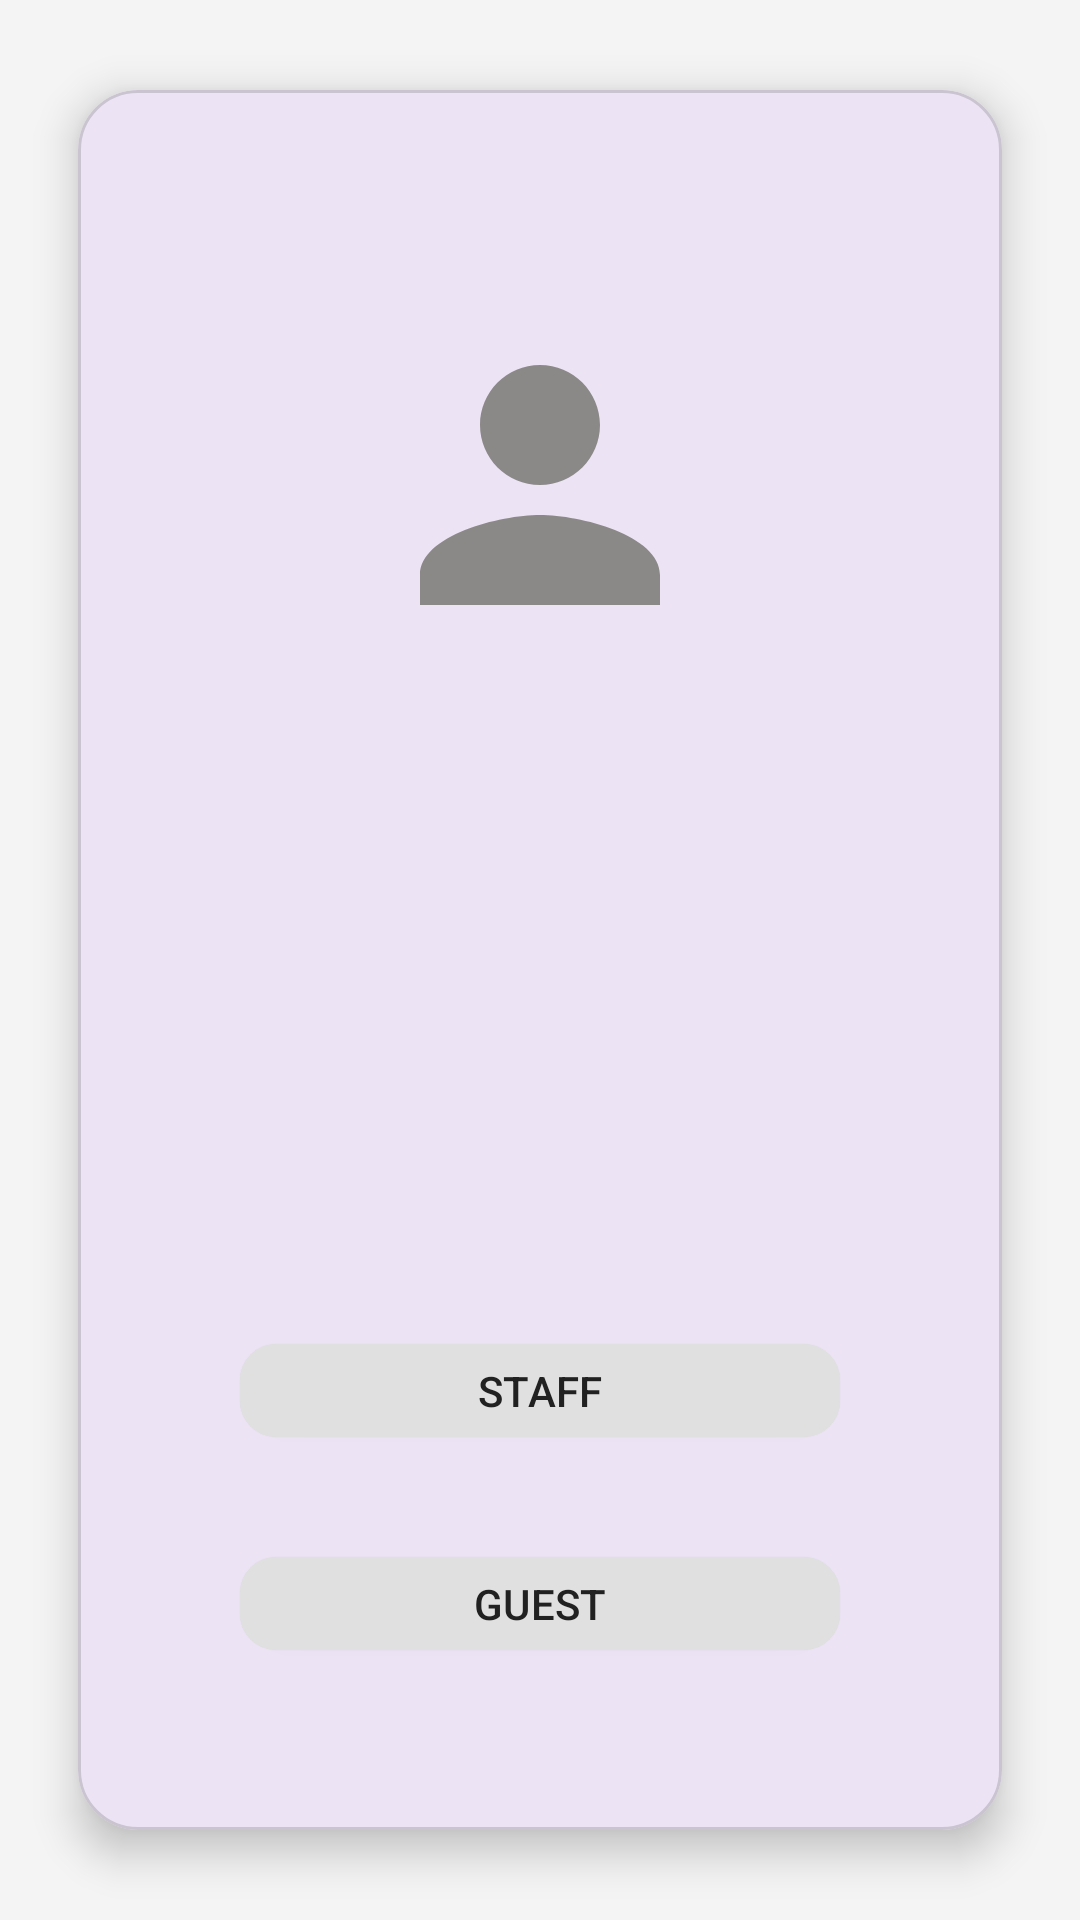

Screen size 1080w x 1920h. Icon name, then its box in pixels as (x1, y1, x2, y2):
person: (420, 365, 660, 605)
